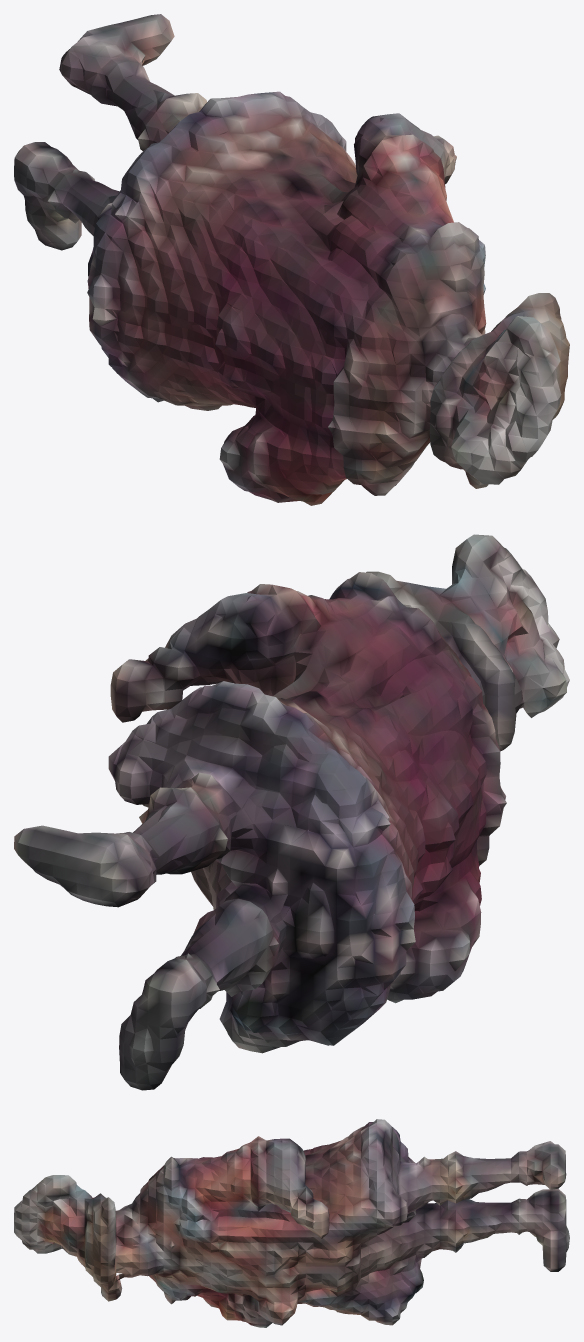
The model's file is renais_merchant_m_0.glb.
The picture shows the model from 3 angles, top to bottom: view 1: azimuth 30°, elevation 25°; view 2: azimuth 150°, elevation 25°; view 3: azimuth 270°, elevation 25°; orthographic projection. The views are drawn at different scales.
Parts seen in each view (by area): view 1: world; view 2: world; view 3: world.
Boxes of the visible parts, x1,y1,x2,y2 form: world: [14, 14, 569, 505]; world: [14, 534, 569, 1090]; world: [14, 1119, 569, 1327].
Size of the model in its own units: 0.4109 by 0.4261 by 0.9649.
